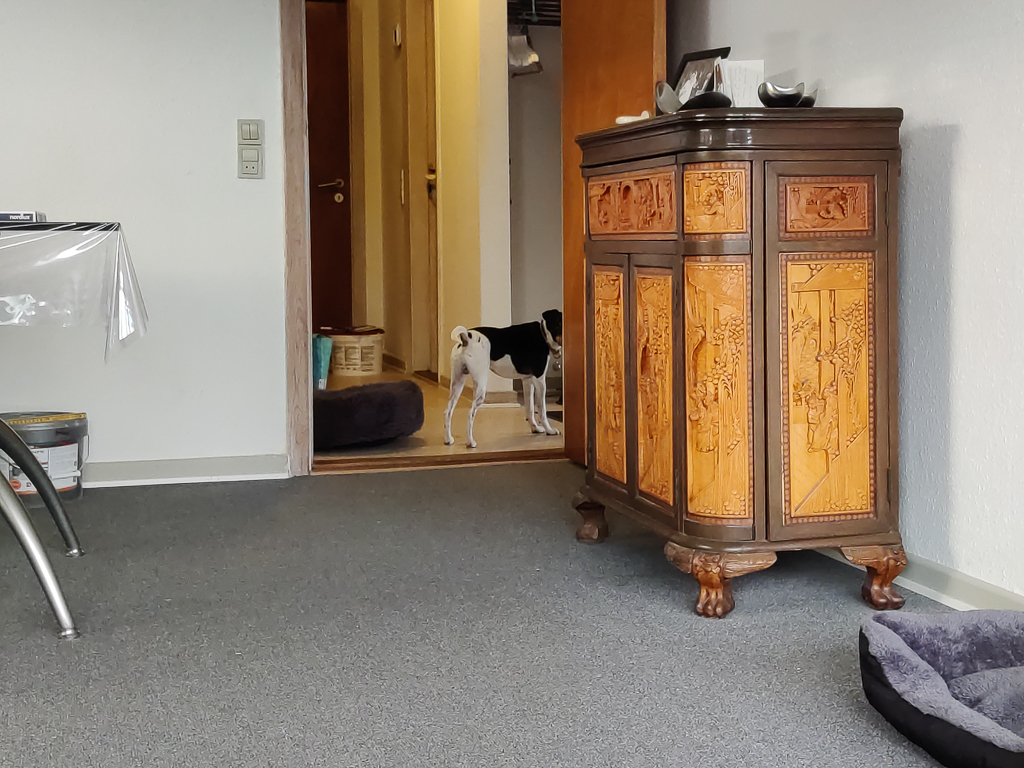Dog: (434, 303, 567, 451)
